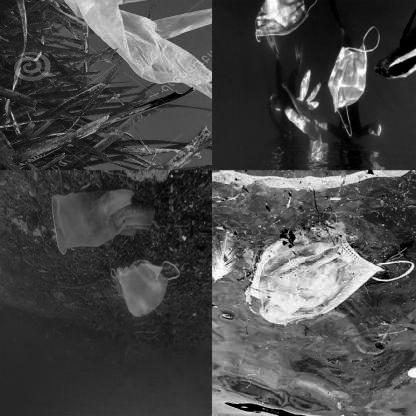Mask: (242, 217, 414, 325), (328, 27, 381, 139), (110, 262, 181, 318), (246, 1, 317, 43)
glove: (30, 0, 212, 107), (51, 189, 156, 256), (278, 65, 325, 163)
